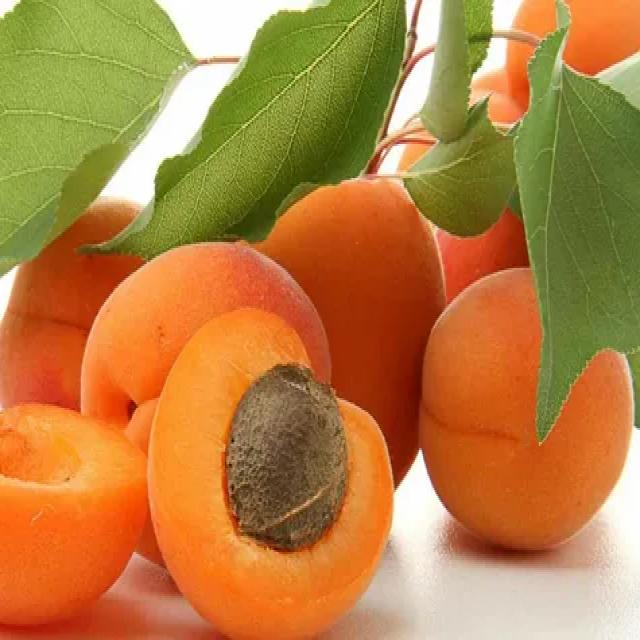Cekirdek: (226, 364, 346, 550)
Kayisi: (0, 404, 147, 620)
Yaprak: (0, 0, 191, 272)
